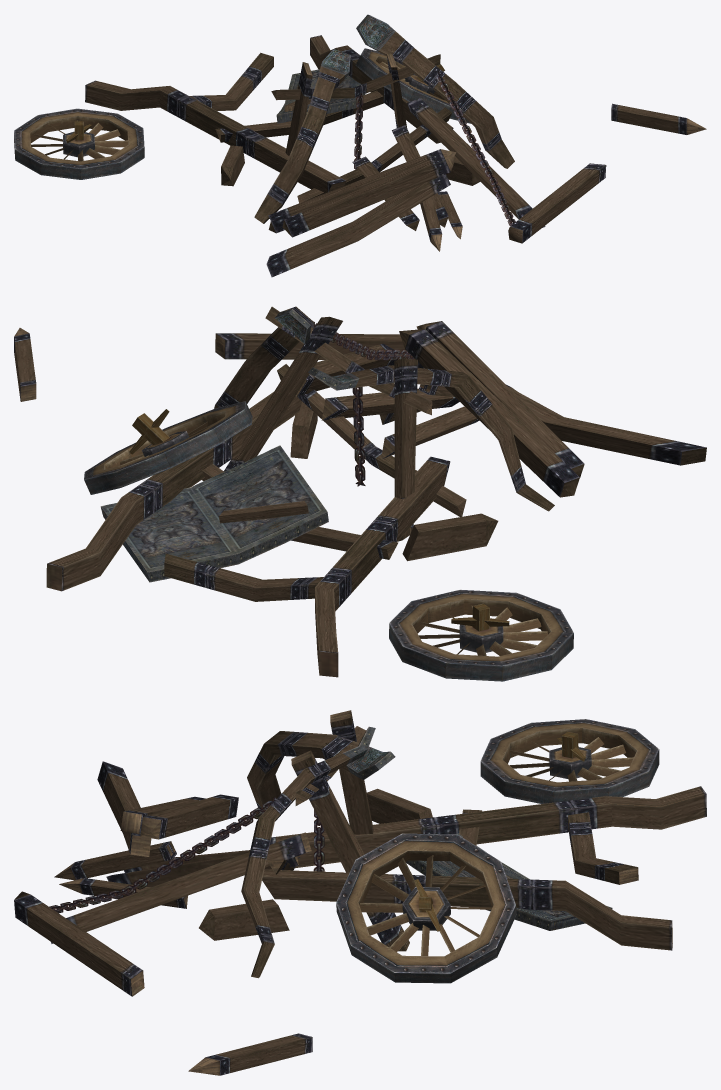
The model's file is pozhanche_yc_21.fbx.
3 views of the same model, one above another, from view 1: azimuth 30°, elevation 25°; view 2: azimuth 150°, elevation 25°; view 3: azimuth 270°, elevation 25° (orthographic). The views are drawn at different scales.
Visible parts, largest first — view 1: pozhanche_yc_21; view 2: pozhanche_yc_21; view 3: pozhanche_yc_21.
Part boxes in pixels (left/top/right/bottom): pozhanche_yc_21: left=14, top=14, right=706, bottom=277; pozhanche_yc_21: left=14, top=306, right=706, bottom=681; pozhanche_yc_21: left=14, top=710, right=706, bottom=1075.
Size of what is drawn, in the model's own units: 1030 by 273 by 862.
